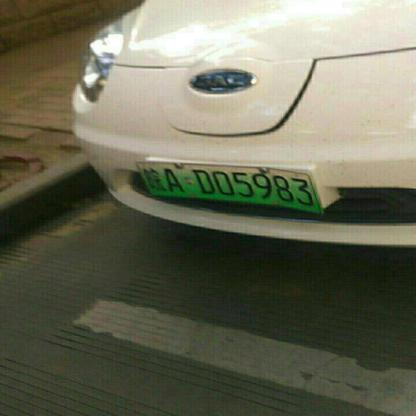lp: (134, 160, 319, 212)
